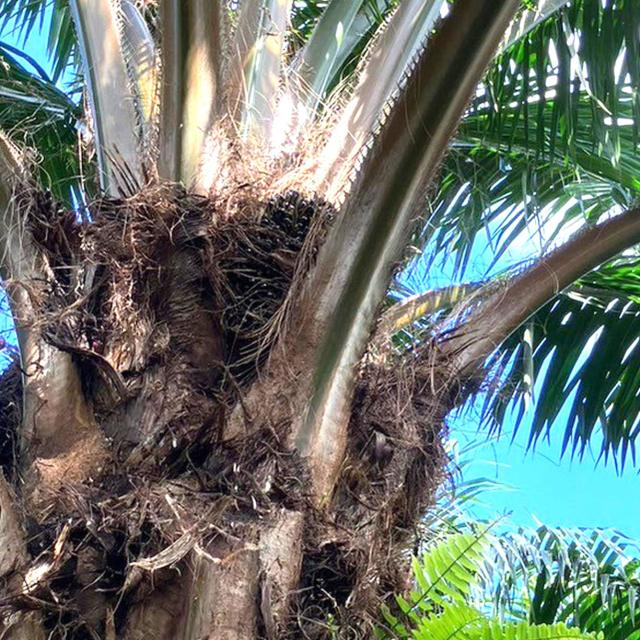unripe: (229, 188, 327, 328)
